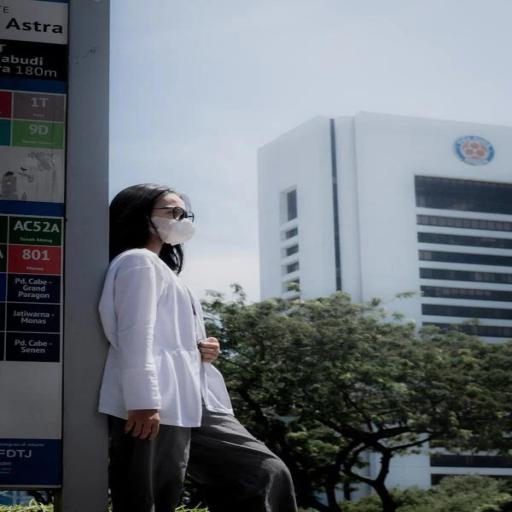mask: (116, 183, 210, 266)
